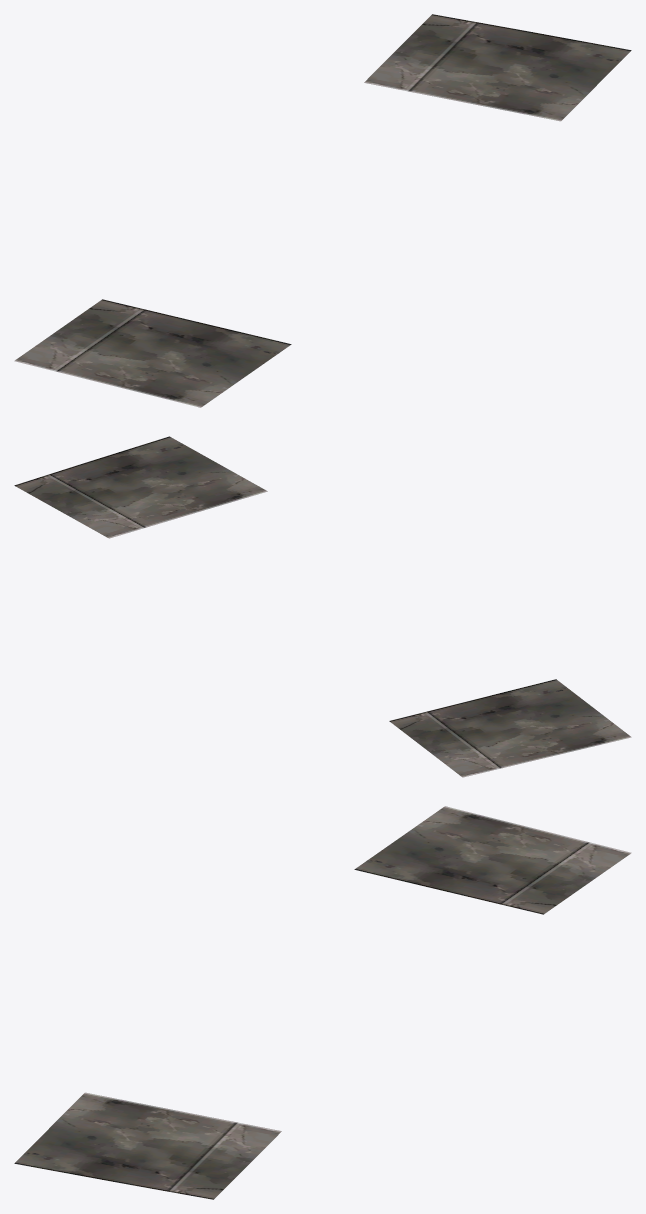
File: CH09_SMAUG_PLAYSURFACE_LAIR137.fbx
3 views of the same model, one above another, from view 1: azimuth 90°, elevation 25°; view 2: azimuth 150°, elevation 25°; view 3: azimuth 270°, elevation 25° (orthographic). The views are drawn at different scales.
Visible parts, largest first — view 1: CH09_SMAUG_PLAYSURFACE_LAIR137; view 2: CH09_SMAUG_PLAYSURFACE_LAIR137; view 3: CH09_SMAUG_PLAYSURFACE_LAIR137.
Part boxes in pixels (x1,y1,x2,y2): CH09_SMAUG_PLAYSURFACE_LAIR137: (14,14,631,407); CH09_SMAUG_PLAYSURFACE_LAIR137: (14,436,631,777); CH09_SMAUG_PLAYSURFACE_LAIR137: (14,806,631,1199).
Size of the model in its own units: 66203 by 0.00716 by 43918.
Materials: 1 (1 with a texture image).
